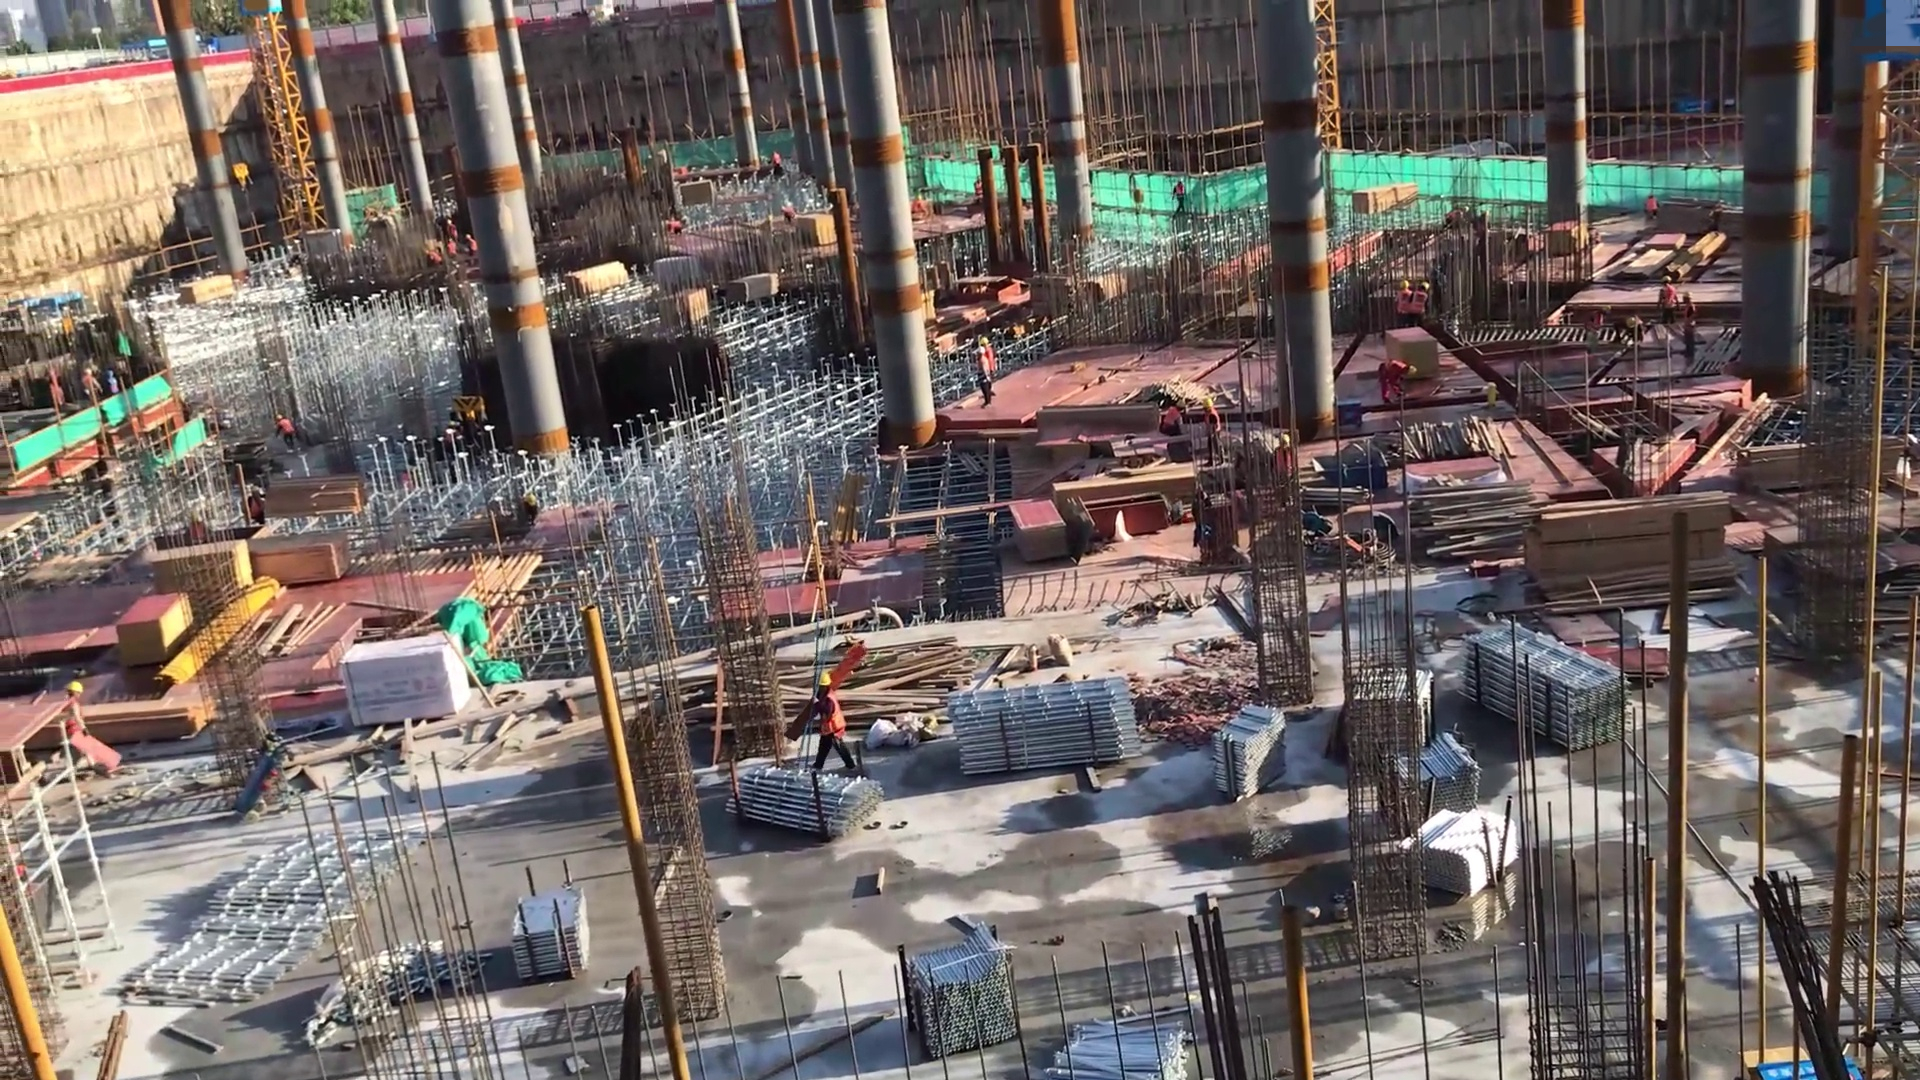board: (147, 535, 253, 607), (109, 591, 195, 677), (1004, 488, 1066, 576), (1572, 644, 1675, 686), (800, 213, 837, 244)
helmet: (63, 676, 86, 702), (814, 671, 835, 695), (1407, 356, 1419, 383), (1172, 397, 1193, 412), (1275, 431, 1292, 447), (1204, 393, 1218, 411), (1684, 290, 1698, 305), (1662, 274, 1674, 289), (1599, 304, 1613, 317), (275, 412, 287, 423), (1420, 280, 1432, 291), (980, 335, 993, 346), (1399, 280, 1409, 290)
hook: (1311, 449, 1391, 490), (457, 389, 488, 429), (233, 155, 259, 196)
person: (801, 667, 858, 776), (55, 667, 88, 786), (1271, 419, 1304, 513), (1374, 354, 1424, 407), (1677, 290, 1706, 371), (1198, 396, 1224, 474), (973, 332, 1000, 397), (1585, 296, 1616, 347), (271, 408, 297, 467), (1158, 395, 1186, 449), (1438, 199, 1471, 239), (975, 347, 994, 414), (1654, 274, 1678, 330), (1413, 275, 1434, 329), (248, 480, 265, 535), (1394, 277, 1411, 331), (1170, 171, 1190, 216), (769, 144, 786, 183), (106, 363, 119, 403), (1643, 195, 1661, 223), (463, 233, 479, 260), (975, 174, 988, 206), (446, 239, 459, 263), (444, 220, 459, 240)
scaffold: (948, 663, 1162, 795), (1453, 613, 1623, 753), (904, 927, 1025, 1064), (722, 757, 933, 832), (1211, 701, 1308, 816), (1055, 1012, 1189, 1080), (1404, 737, 1486, 839)
vest: (816, 693, 851, 746), (62, 702, 87, 746), (1161, 406, 1185, 436), (1204, 407, 1223, 438), (1658, 285, 1676, 314), (1383, 358, 1406, 380), (977, 355, 991, 386), (1395, 290, 1411, 319), (1413, 290, 1428, 321), (278, 417, 295, 438), (1645, 197, 1658, 215), (1176, 184, 1186, 202)
wood: (1524, 489, 1731, 607), (788, 638, 964, 741), (1736, 426, 1903, 502), (1399, 485, 1529, 565), (1049, 462, 1203, 514), (92, 696, 211, 754), (249, 527, 353, 586), (265, 468, 368, 524), (180, 268, 244, 315), (724, 265, 784, 310), (564, 260, 628, 302), (1348, 182, 1419, 218)
